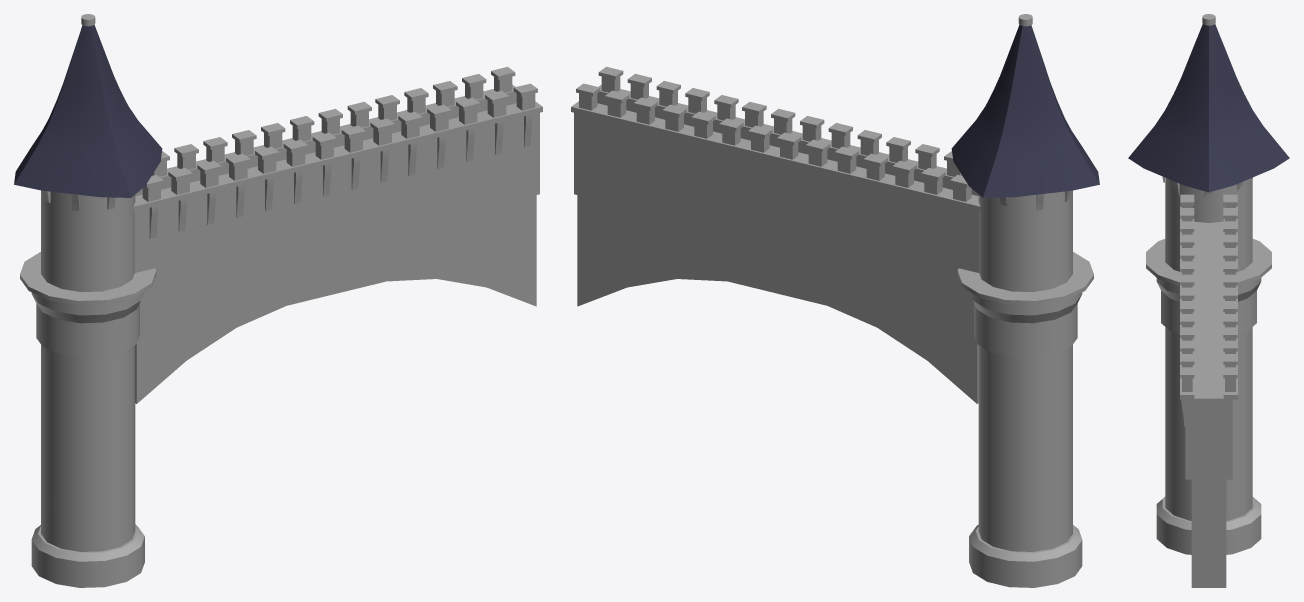
File: Castle_TowerBridgeA_Medium.fbx
3 renders of one model, left to right at view 1: azimuth 30°, elevation 25°; view 2: azimuth 150°, elevation 25°; view 3: azimuth 270°, elevation 25°, orthographic. The views are drawn at different scales.
Parts seen in each view (by area): view 1: Castle_TowerBridgeA_Medium; view 2: Castle_TowerBridgeA_Medium; view 3: Castle_TowerBridgeA_Medium.
Part boxes in pixels (x1,y1,x2,y2): Castle_TowerBridgeA_Medium: [14, 14, 542, 587]; Castle_TowerBridgeA_Medium: [571, 14, 1099, 587]; Castle_TowerBridgeA_Medium: [1128, 14, 1289, 587].
Bounding box in the file's own units: 801 × 816 × 231.
